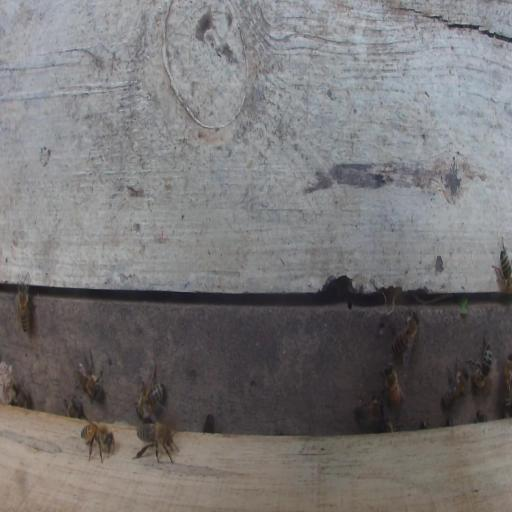nonpollenbee: (132, 419, 181, 465), (387, 303, 420, 368), (77, 413, 116, 465), (134, 362, 167, 423), (465, 332, 492, 390), (440, 357, 470, 409), (75, 361, 105, 405), (379, 361, 403, 411), (15, 277, 35, 337), (355, 391, 385, 429), (498, 242, 512, 295), (62, 393, 84, 420), (502, 352, 511, 412)
